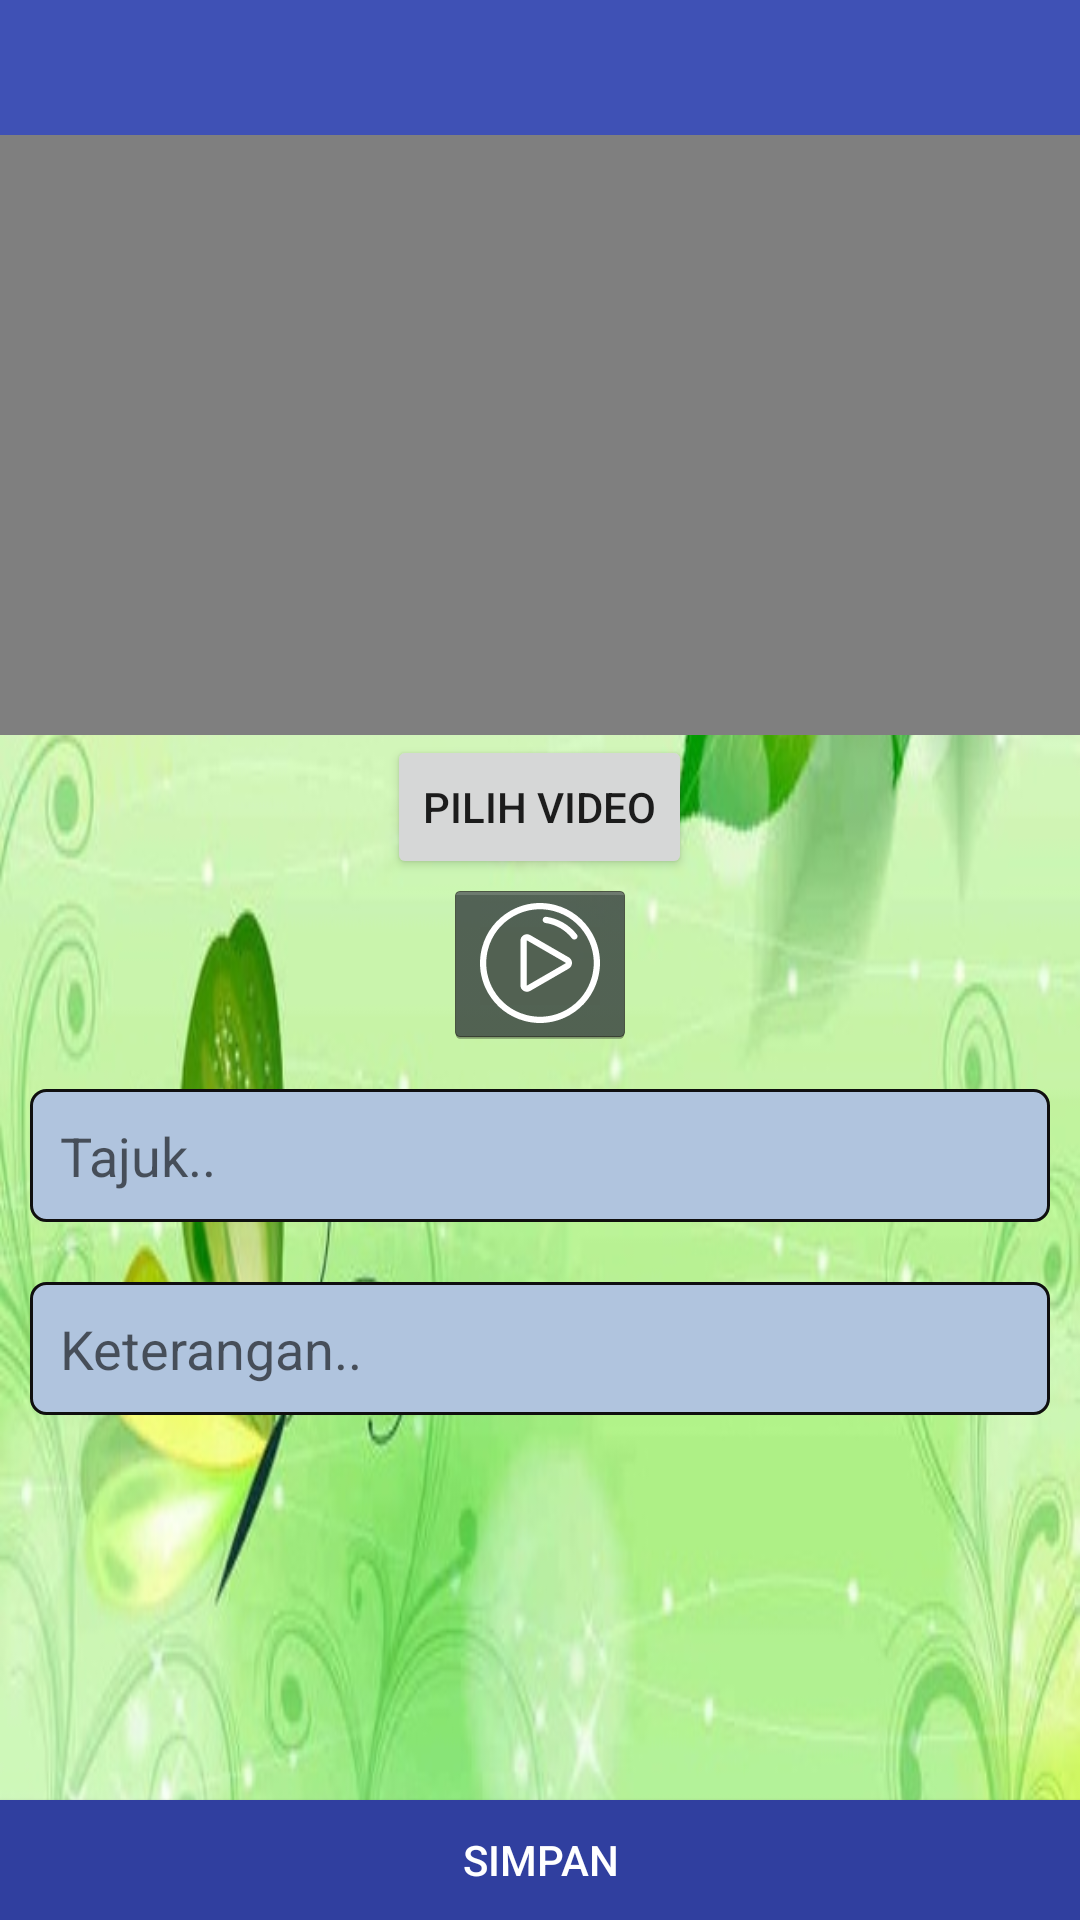

Where icons sit on this 1080w x 1920h app screen, as (x1, y1, x2, y2):
play: (455, 891, 625, 1039)
